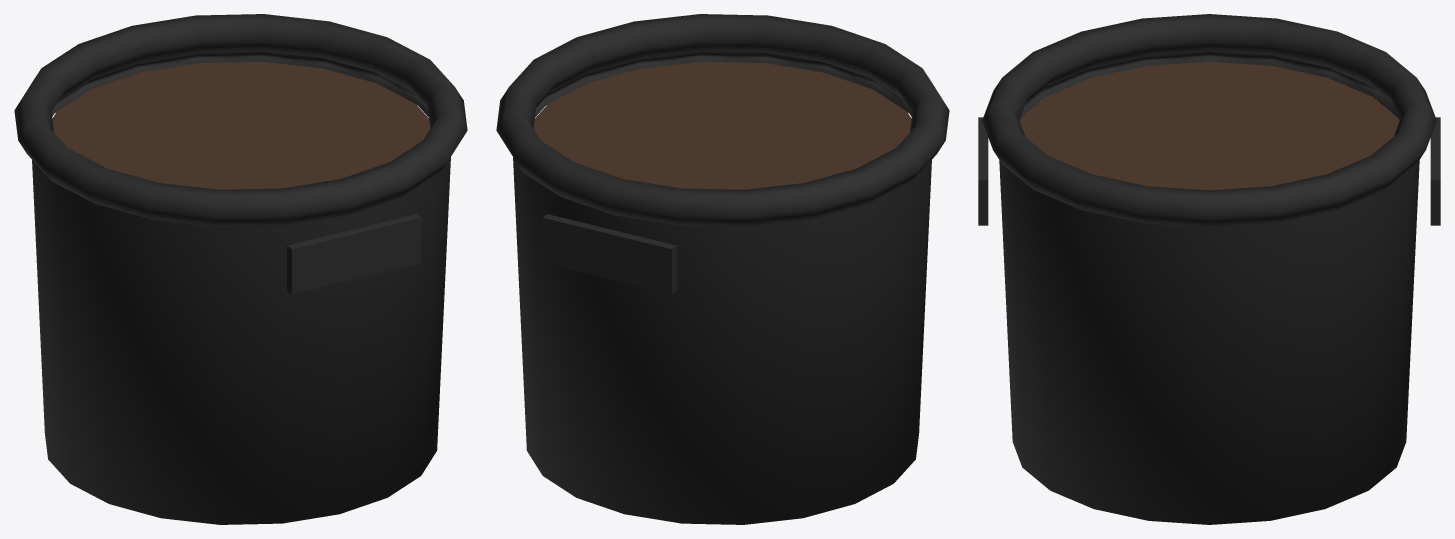
Rendered from pot-family--1gal.glb.
The picture shows the model from 3 angles, left to right: view 1: azimuth 30°, elevation 25°; view 2: azimuth 150°, elevation 25°; view 3: azimuth 270°, elevation 25°; orthographic projection.
Parts seen in each view (by area): view 1: pot_body, soil_surface, pot_rim, pot_handles; view 2: pot_body, soil_surface, pot_rim, pot_handles; view 3: pot_body, soil_surface, pot_rim, pot_handles.
Boxes of the visible parts, left/top/right/bottom form: pot_body: left=32, top=51, right=450, bottom=524; soil_surface: left=52, top=61, right=430, bottom=189; pot_rim: left=14, top=14, right=467, bottom=226; pot_handles: left=287, top=214, right=421, bottom=294; pot_body: left=513, top=51, right=931, bottom=524; soil_surface: left=533, top=61, right=911, bottom=189; pot_rim: left=496, top=14, right=949, bottom=226; pot_handles: left=542, top=214, right=676, bottom=294; pot_body: left=999, top=51, right=1419, bottom=524; soil_surface: left=1019, top=61, right=1399, bottom=190; pot_rim: left=982, top=14, right=1436, bottom=227; pot_handles: left=978, top=117, right=1440, bottom=225.
Bounding box in the file's own units: 0.183 × 0.149 × 0.186.
